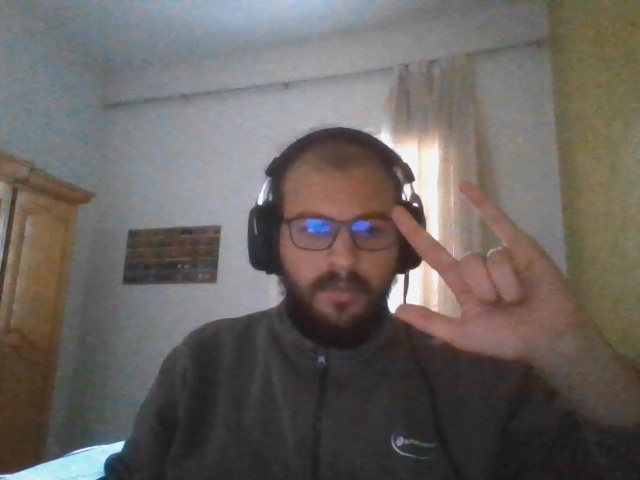I Love You: (389, 182, 579, 363)
